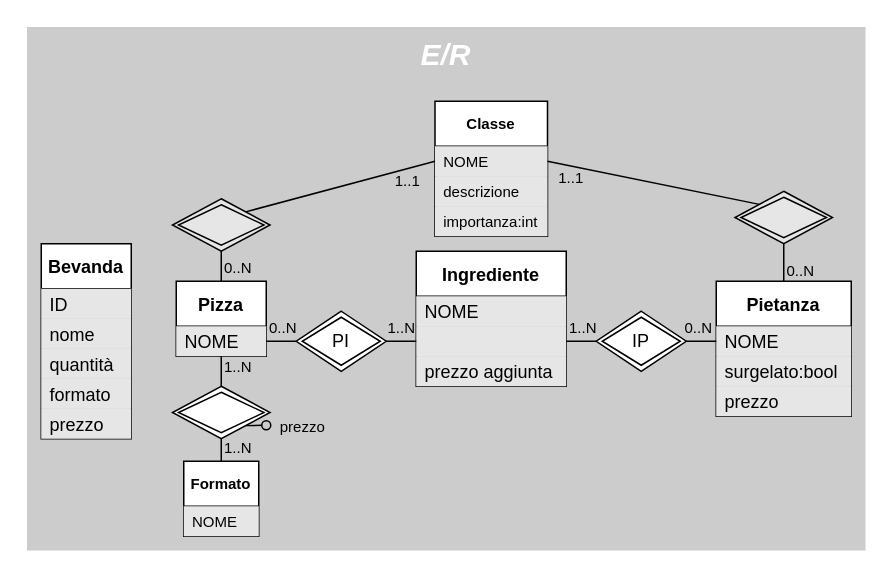
The diagram is 893 pixels wide and 578 high, and some of its shapes have lost their labels. Here are the shapes that lost their labels. From the top down, the centre of each, then its label:
the point at 220,224: PC
the point at 783,217: CP
the point at 491,341: surgelato: bool
the point at 220,412: PF
